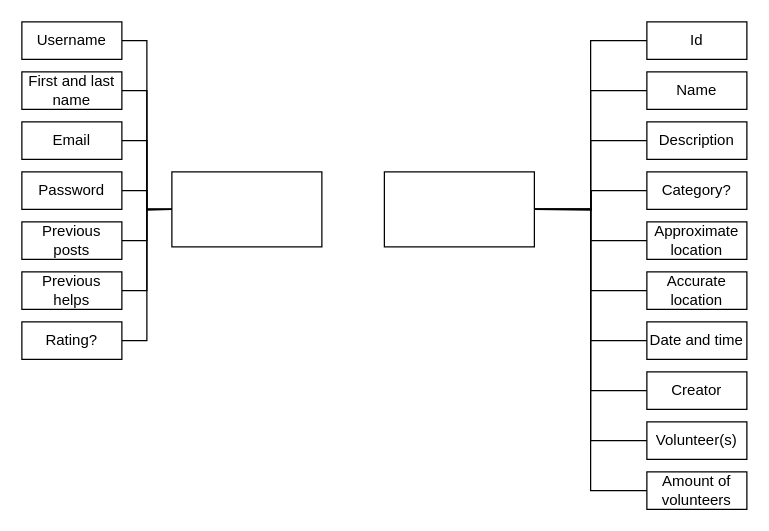
The diagram is 769 pixels wide and 531 high, and some of its shapes have lost their labels. The centre of each missing label's shape, as x and y in pixels:
"Post" belongs at point (458, 209).
"User" belongs at point (246, 209).
